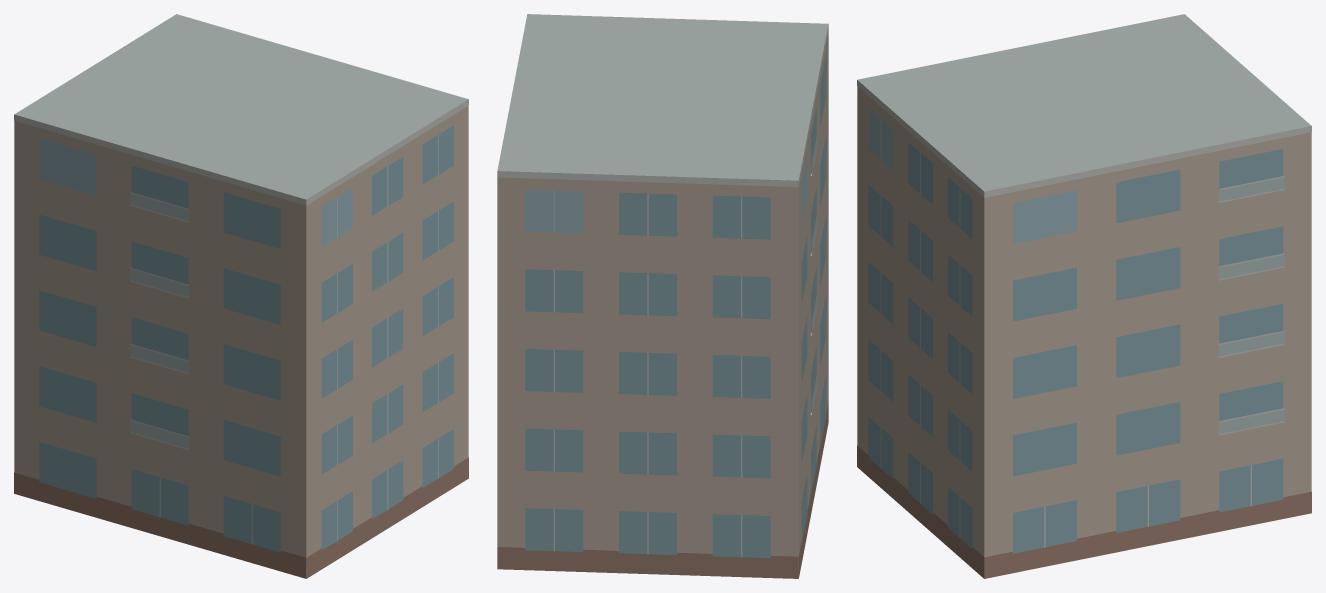
Rendered from survey-upis-32983984.glb.
The picture shows the model from 3 angles, left to right: view 1: azimuth 30°, elevation 25°; view 2: azimuth 150°, elevation 25°; view 3: azimuth 270°, elevation 25°; orthographic projection. The views are drawn at different scales.
Visible parts, largest first — view 1: survey-upis-32983984.tmp; view 2: survey-upis-32983984.tmp; view 3: survey-upis-32983984.tmp.
Boxes of the visible parts, <box> form: survey-upis-32983984.tmp: <box>14,14,468,578</box>; survey-upis-32983984.tmp: <box>497,14,828,578</box>; survey-upis-32983984.tmp: <box>857,14,1311,578</box>.
Size of the model in its own units: 14.97 by 15.2 by 16.19.
